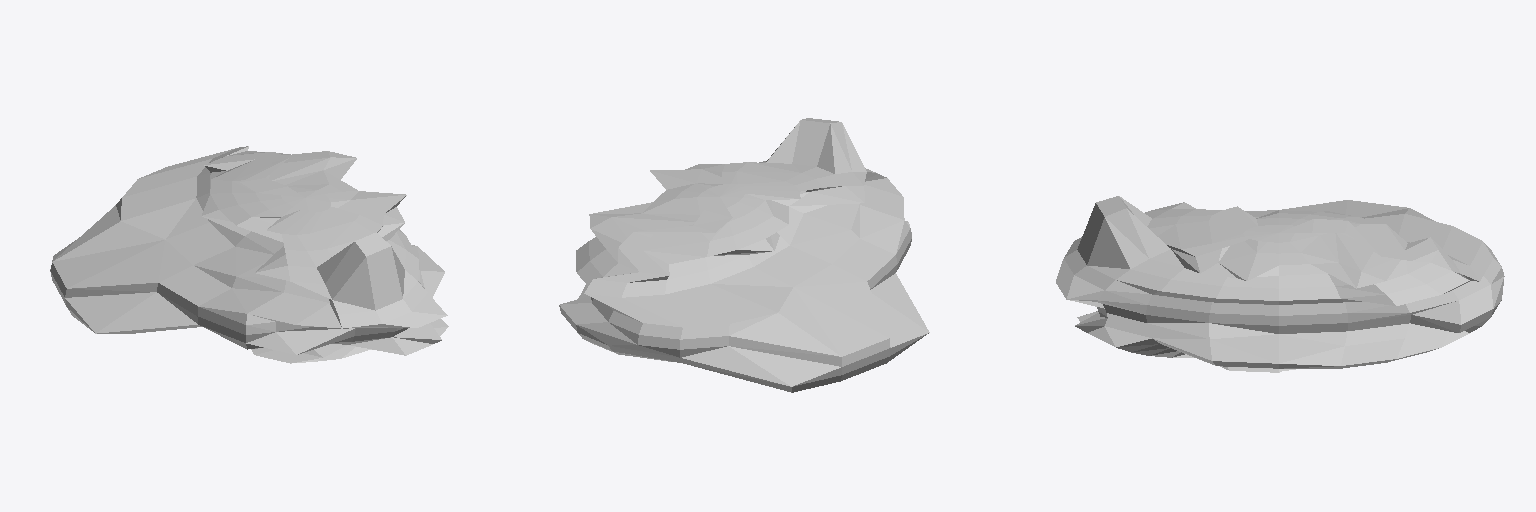
File: asteroid2.obj
The picture shows the model from 3 angles: view 1: azimuth 30°, elevation 25°; view 2: azimuth 150°, elevation 25°; view 3: azimuth 270°, elevation 25°; orthographic projection.
Parts seen in each view (by area): view 1: pSphere2; view 2: pSphere2; view 3: pSphere2.
Part boxes in pixels (x1,y1,x2,y2): pSphere2: (50, 146, 448, 363); pSphere2: (559, 118, 929, 392); pSphere2: (1056, 196, 1504, 372).
Bounding box in the file's own units: 0.5252 × 0.2157 × 0.634.